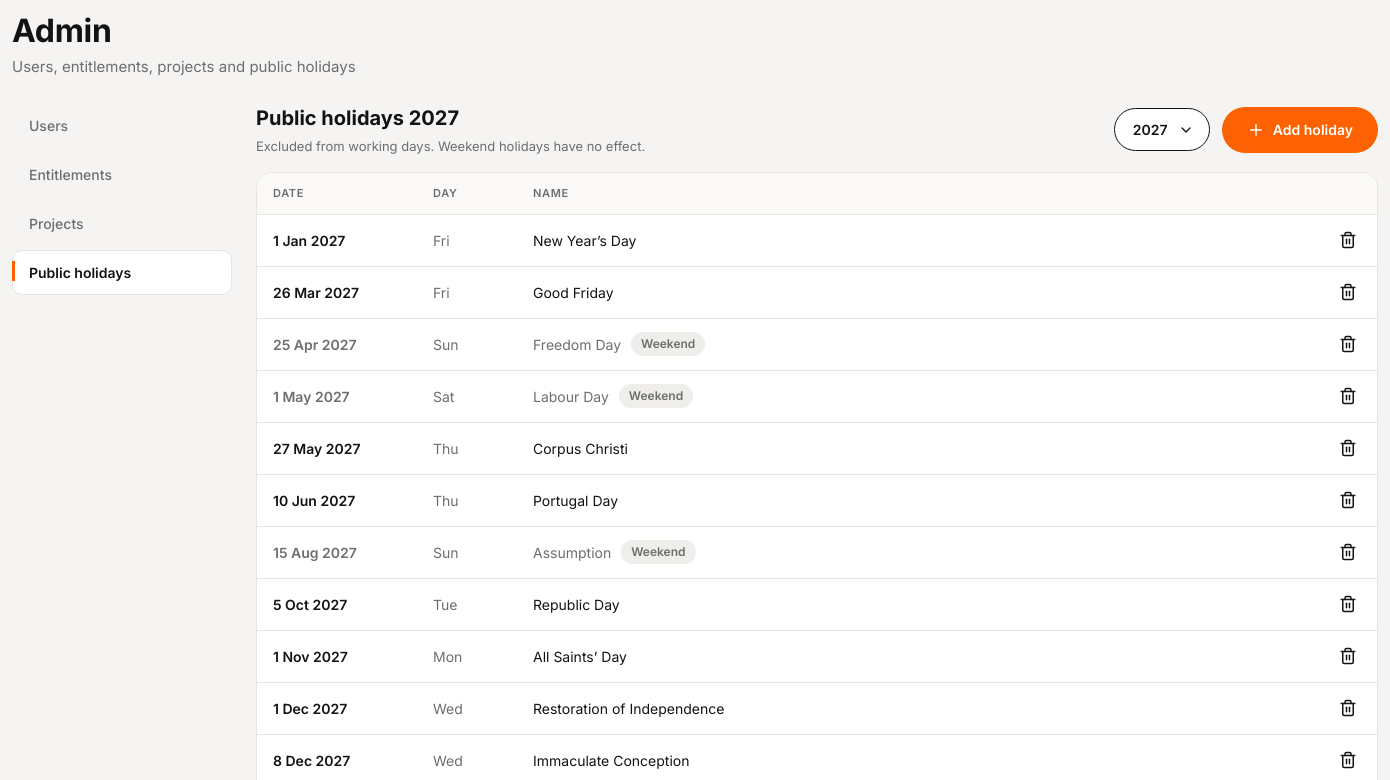
Test case: Admin – Public holidays › shows another year, and says when it has no holidays yet
The width and height of the screenshot is (1390, 780).
Check: the heading "Public holidays 2027" is shown, box [256,106,459,130]
Select "2026" in the dropdown named "Year" at (1162, 130), box [1114,108,1210,151]
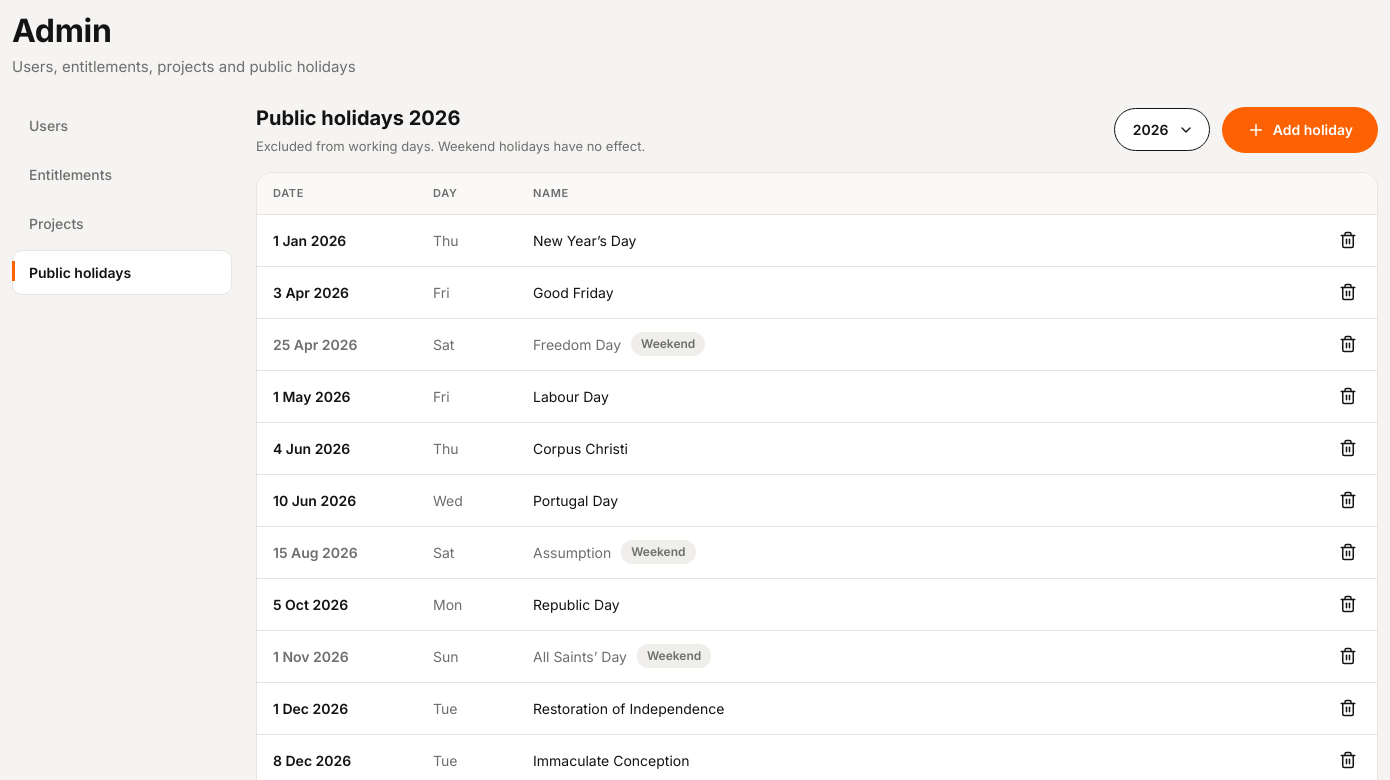
Check: the heading "Public holidays 2026" is shown, box [256,106,460,130]
Select "2028" in the dropdown named "Year" at (1162, 130), box [1114,108,1210,151]
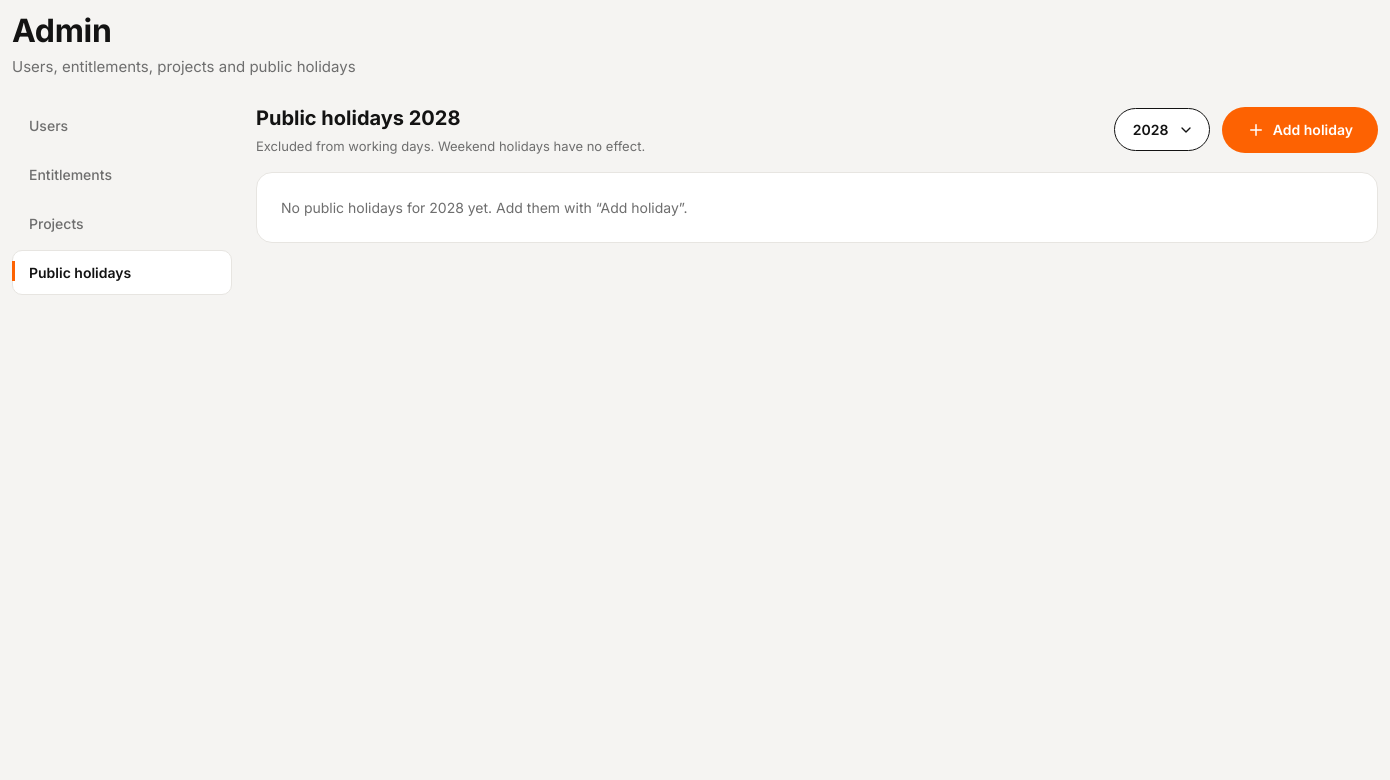
Check: the text "No public holidays for 2028 yet. Add them with “Add holiday”." is shown, box [256,172,1378,243]
